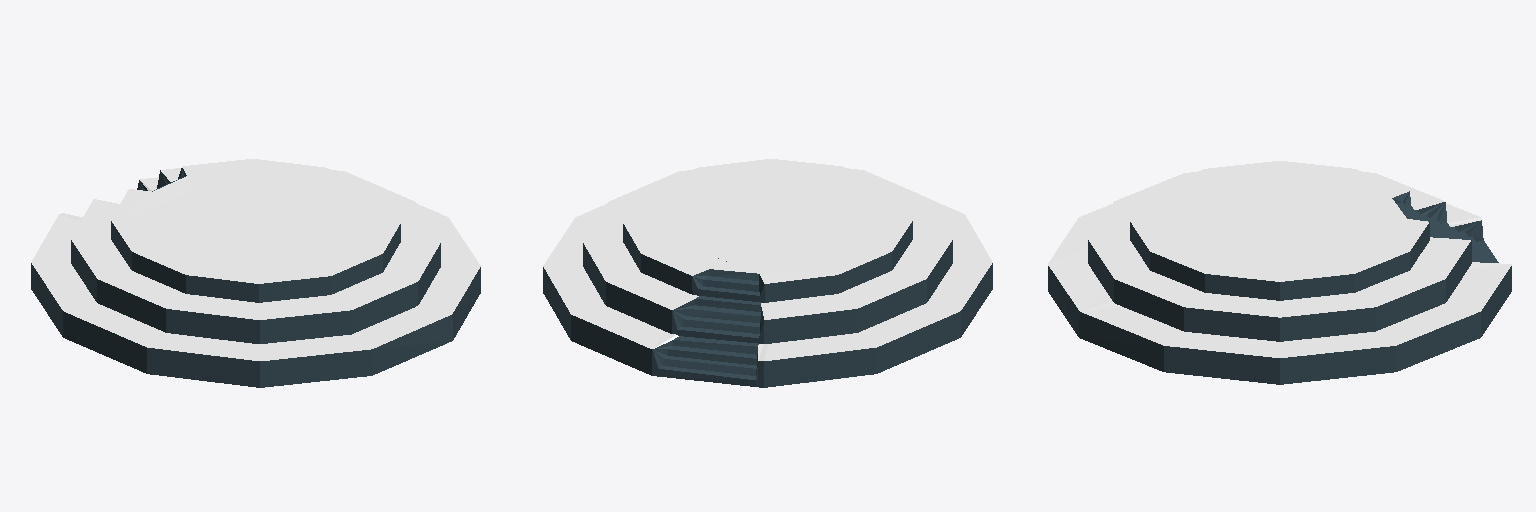
File: model-triangulated.obj
3 renders of one model, left to right at view 1: azimuth 30°, elevation 25°; view 2: azimuth 150°, elevation 25°; view 3: azimuth 270°, elevation 25°, orthographic.
Parts seen in each view (by area): view 1: group[number redacted], group[number redacted], group[number redacted]; view 2: group[number redacted], group[number redacted], group[number redacted]; view 3: group[number redacted], group[number redacted], group[number redacted].
Boxes of the visible parts, <box> form: group[number redacted]: <box>111,159,400,302</box>; group[number redacted]: <box>31,177,480,387</box>; group[number redacted]: <box>71,168,440,343</box>; group[number redacted]: <box>623,159,912,302</box>; group[number redacted]: <box>543,200,992,387</box>; group[number redacted]: <box>583,168,952,343</box>; group[number redacted]: <box>1130,161,1429,300</box>; group[number redacted]: <box>1048,203,1511,384</box>; group[number redacted]: <box>1088,172,1471,341</box>.
Size of the model in its own units: 0.6483 by 0.112 by 0.6769.